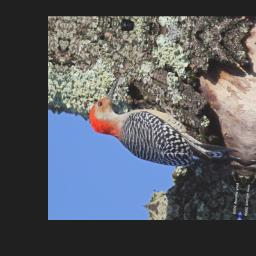Woodpecker: (84, 77, 244, 177)
